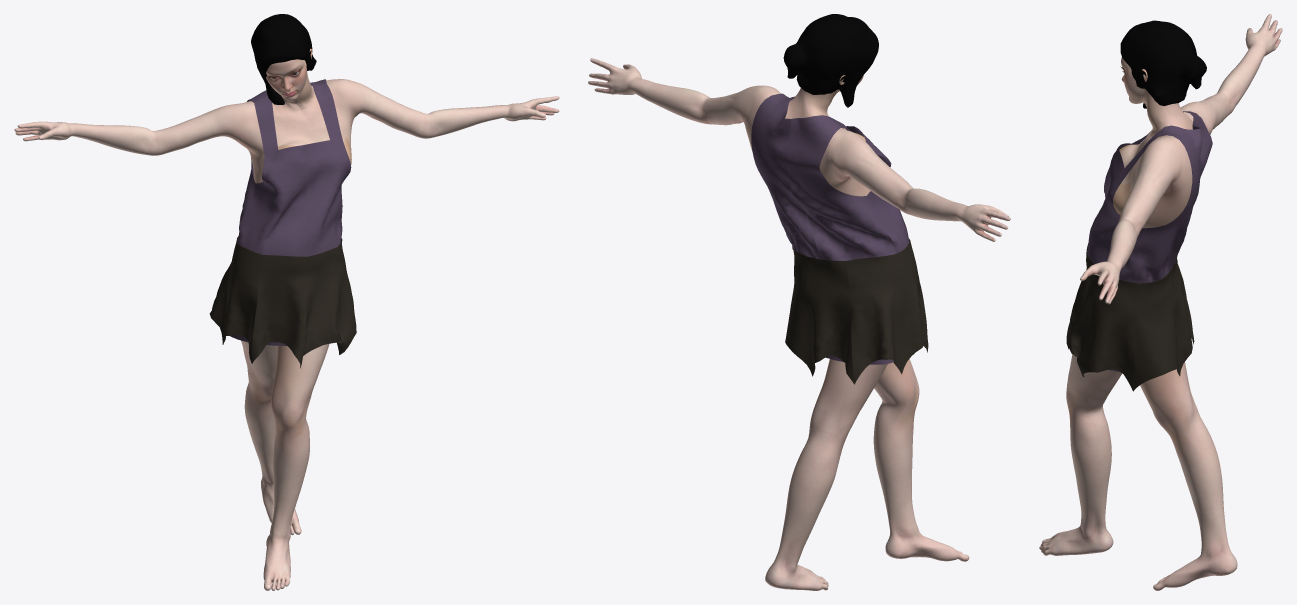
File: random.obj
The picture shows the model from 3 angles, left to right: view 1: azimuth 30°, elevation 25°; view 2: azimuth 150°, elevation 25°; view 3: azimuth 270°, elevation 25°; orthographic projection. The views are drawn at different scales.
Bounding box in the file's own units: 1601 × 1717 × 679.
